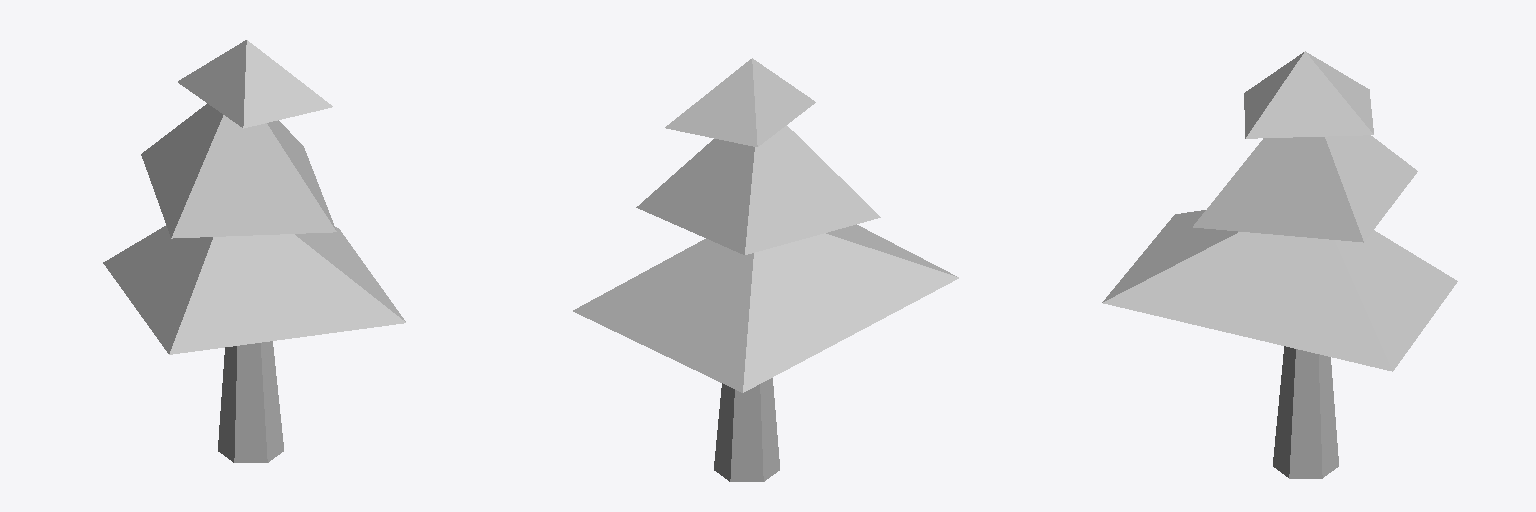
File: tree01.obj
3 views of the same model, side by side, from view 1: azimuth 30°, elevation 25°; view 2: azimuth 150°, elevation 25°; view 3: azimuth 270°, elevation 25° (orthographic).
Visible parts, largest first — view 1: Converted_object_1; view 2: Converted_object_1; view 3: Converted_object_1.
Boxes of the visible parts, <box> form: Converted_object_1: <box>103,40,405,462</box>; Converted_object_1: <box>573,58,958,481</box>; Converted_object_1: <box>1102,51,1457,478</box>.
Size of the model in its own units: 4.18 by 5.91 by 4.63.